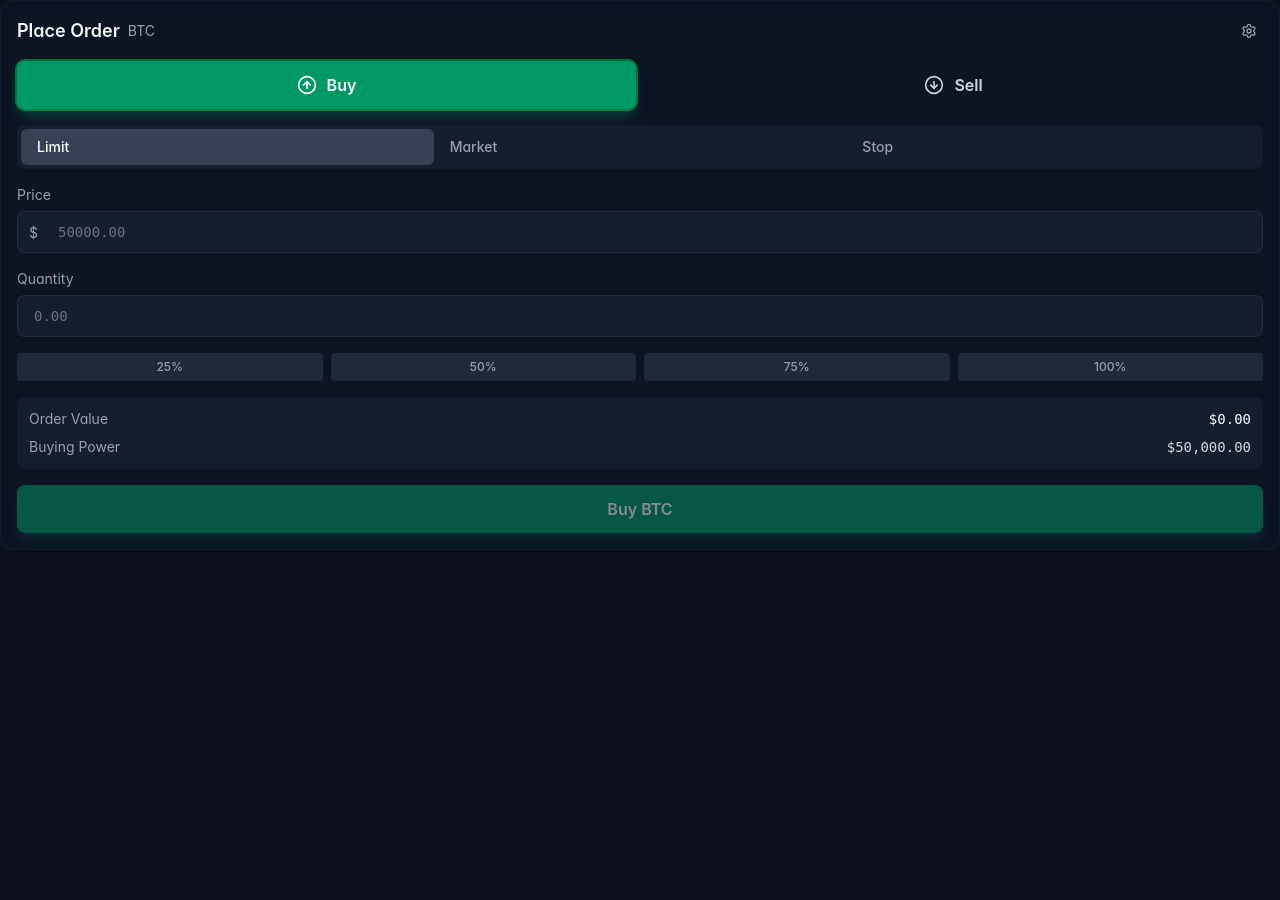
it: OrderPanel › Advanced Options › shows take profit and stop loss when advanced is toggled
Click the 1st button at (1249, 31), box [1235,17,1263,45]
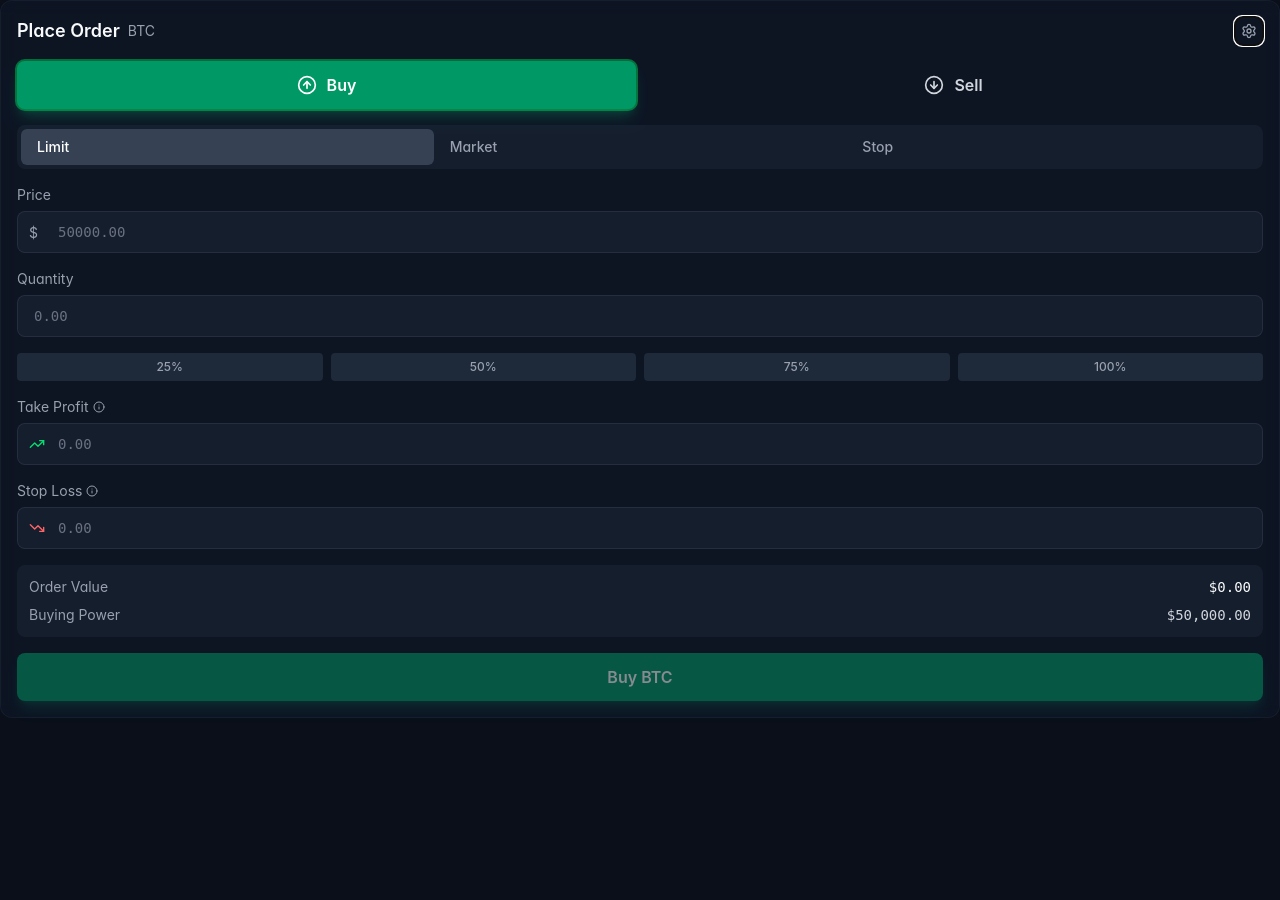
Expected: the text "Take Profit" is shown, [17,398,104,415]
